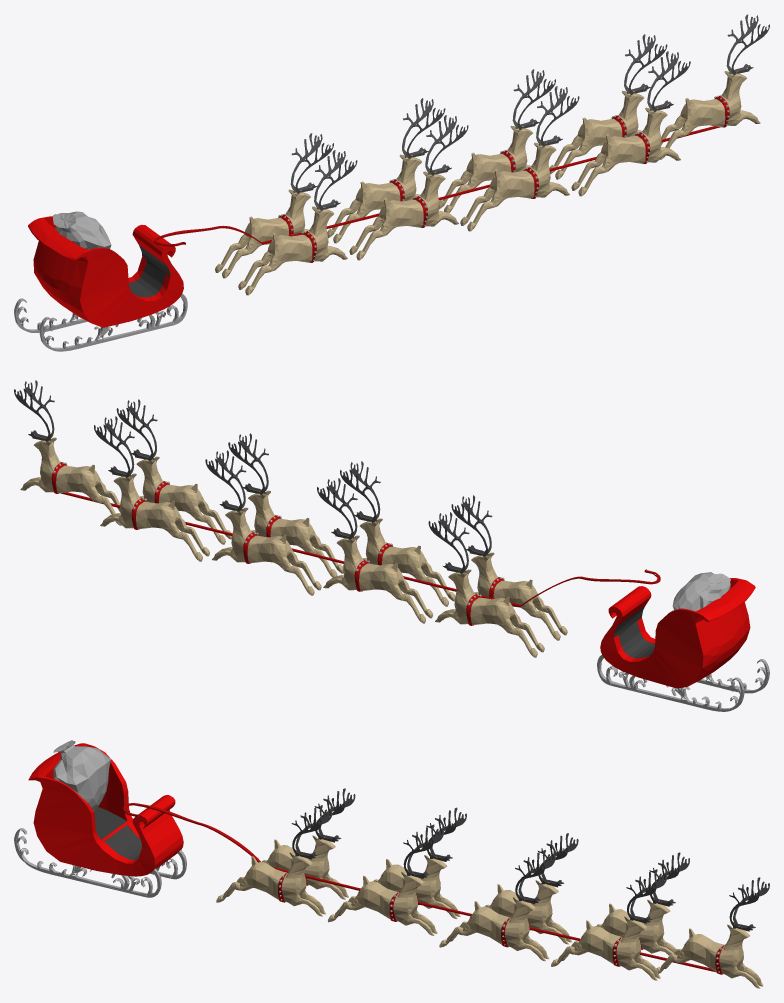
File: Sleigh.fbx
3 views of the same model, one above another, from view 1: azimuth 30°, elevation 25°; view 2: azimuth 150°, elevation 25°; view 3: azimuth 330°, elevation 25° (orthographic).
Parts seen in each view (by area): view 1: Material #131; view 2: Material #131; view 3: Material #131.
Part boxes in pixels (x1,y1,x2,y2): Material #131: [14, 14, 769, 351]; Material #131: [14, 380, 769, 711]; Material #131: [14, 740, 769, 988].
Bounding box in the file's own units: 1434 × 278 × 161.
